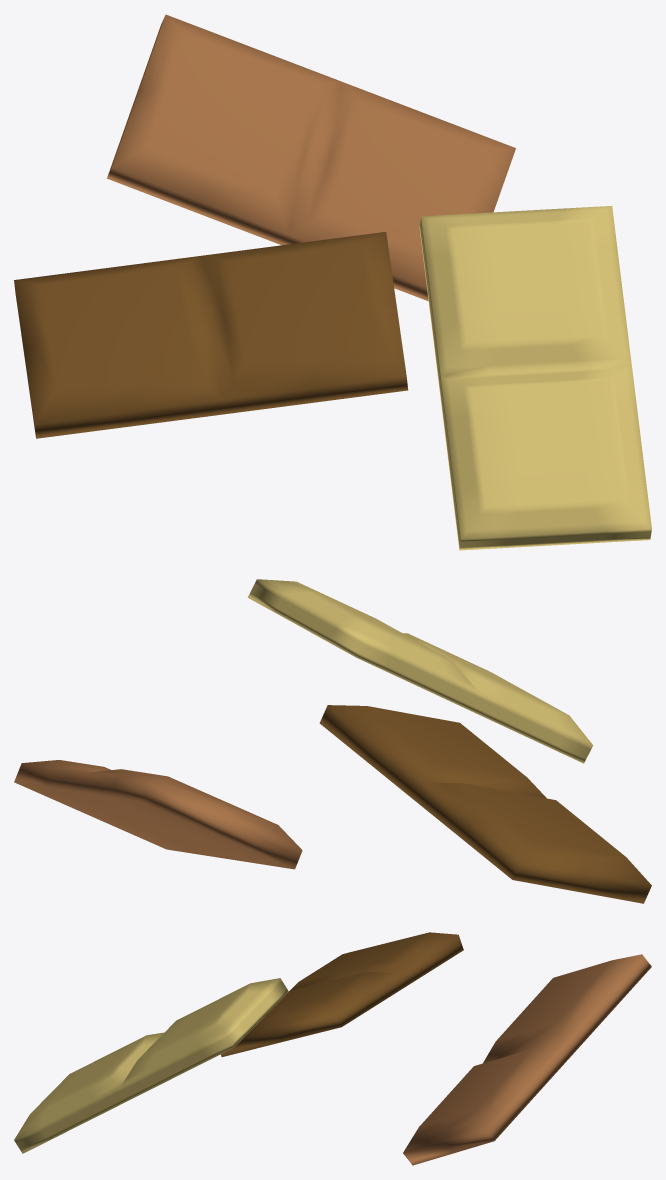
Rendered from chocolate01.fbx.
3 views of the same model, one above another, from view 1: azimuth 30°, elevation 25°; view 2: azimuth 150°, elevation 25°; view 3: azimuth 270°, elevation 25° (orthographic). The views are drawn at different scales.
Parts seen in each view (by area): view 1: Cube, Cube.001, Cube.002; view 2: Cube.001, Cube, Cube.002; view 3: Cube.002, Cube, Cube.001.
Part boxes in pixels (x1,y1,x2,y2): Cube: [419, 206, 651, 550]; Cube.001: [14, 232, 408, 438]; Cube.002: [107, 14, 515, 301]; Cube.001: [319, 705, 651, 903]; Cube: [247, 579, 593, 763]; Cube.002: [14, 760, 302, 869]; Cube.002: [403, 954, 651, 1165]; Cube: [14, 978, 288, 1153]; Cube.001: [221, 932, 463, 1056].
Size of the model in its own units: 698 by 271 by 893.
